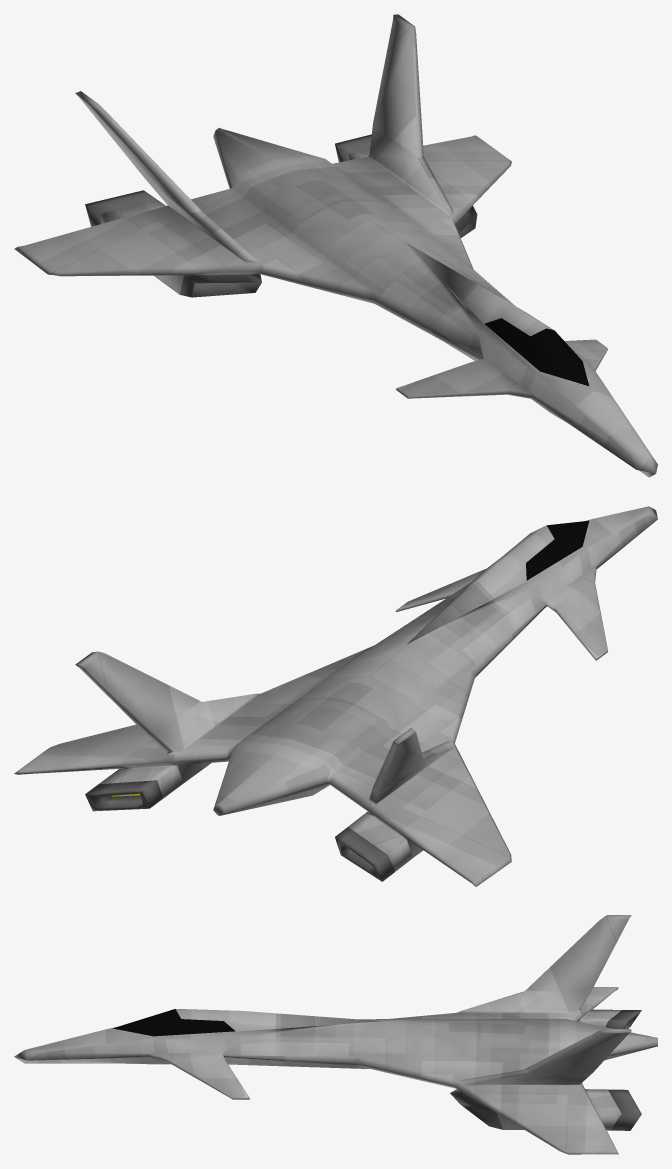
Rendered from aircraft.glb.
The picture shows the model from 3 angles, top to bottom: view 1: azimuth 30°, elevation 25°; view 2: azimuth 150°, elevation 25°; view 3: azimuth 270°, elevation 25°; orthographic projection. The views are drawn at different scales.
Visible parts, largest first — view 1: Object_6, Object_4, Object_2; view 2: Object_6, Object_4, Object_2; view 3: Object_6, Object_4, Object_2.
Part boxes in pixels (x1=…): Object_6: x1=14, y1=14, x2=657, y2=477; Object_4: x1=85, y1=134, x2=477, y2=297; Object_2: x1=484, y1=318, x2=588, y2=385; Object_6: x1=14, y1=506, x2=657, y2=886; Object_4: x1=85, y1=780, x2=395, y2=881; Object_2: x1=526, y1=520, x2=588, y2=580; Object_6: x1=14, y1=915, x2=657, y2=1154; Object_4: x1=450, y1=1010, x2=641, y2=1130; Object_2: x1=113, y1=1009, x2=235, y2=1036.
Size of the model in its own units: 10.77 by 3.2 by 17.58.
Materials: 5 (1 with a texture image).
